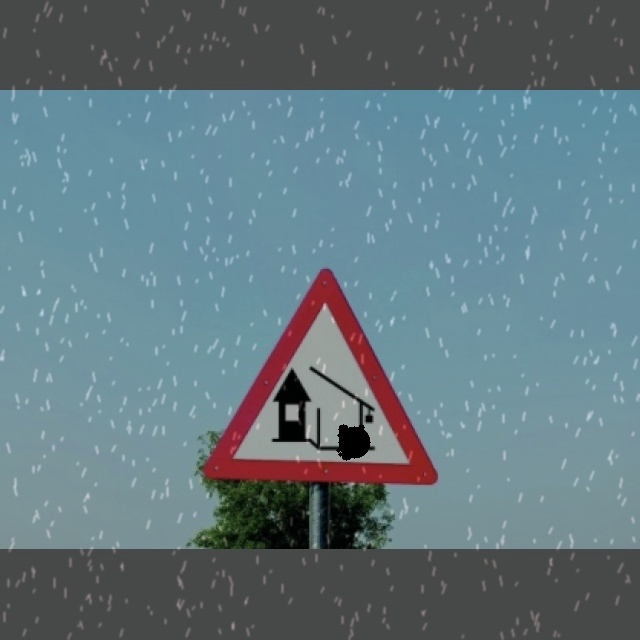Barrier_Ahead: (191, 258, 458, 493)
